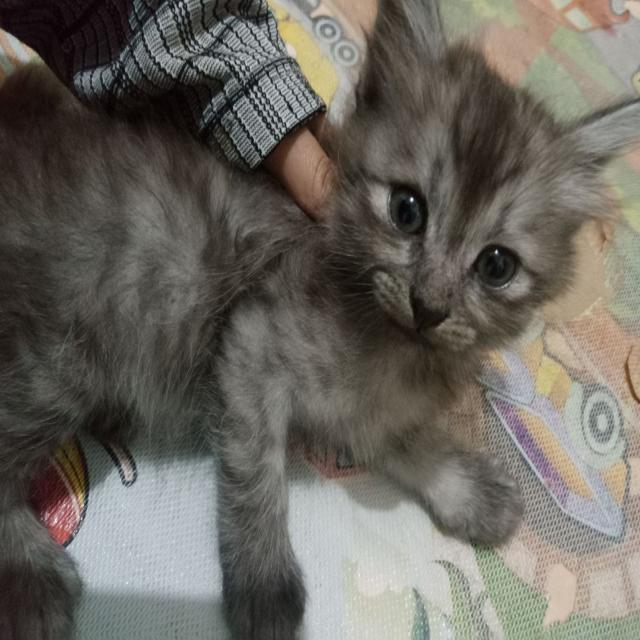da khoe manh: (0, 159, 329, 446)
